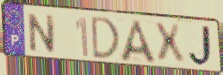1: (75, 16, 90, 58)
A: (119, 18, 159, 66)
D: (91, 15, 122, 61)
J: (187, 25, 216, 69)
N: (27, 12, 56, 55)
X: (152, 22, 187, 66)
